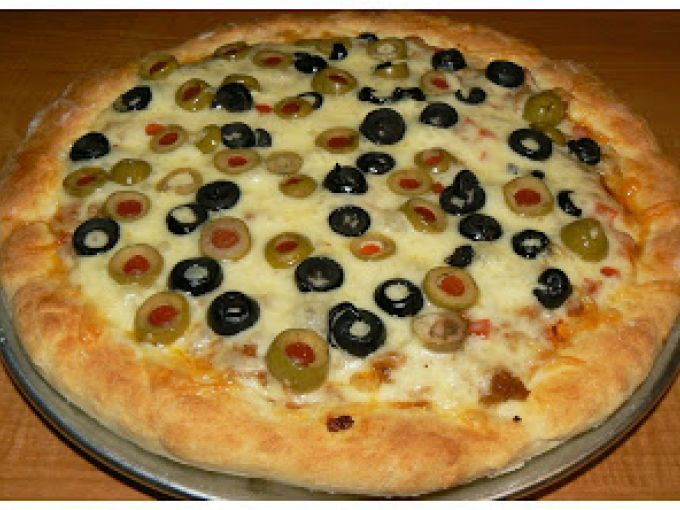olive: (326, 303, 388, 353), (205, 292, 260, 333), (293, 254, 346, 296), (372, 276, 425, 318), (440, 170, 488, 213), (526, 265, 575, 306), (356, 105, 407, 144), (168, 258, 224, 292), (71, 219, 120, 255), (319, 163, 369, 197), (163, 200, 208, 236), (192, 179, 241, 211), (327, 206, 374, 237), (507, 129, 554, 160), (220, 123, 273, 150), (485, 57, 527, 89), (457, 213, 503, 242), (512, 228, 551, 259), (421, 100, 461, 130), (211, 83, 252, 112), (120, 83, 157, 115), (69, 132, 114, 158), (355, 151, 397, 176), (433, 46, 472, 72), (569, 138, 604, 163), (291, 51, 328, 73), (560, 187, 583, 218), (449, 245, 478, 268), (299, 90, 324, 109)
